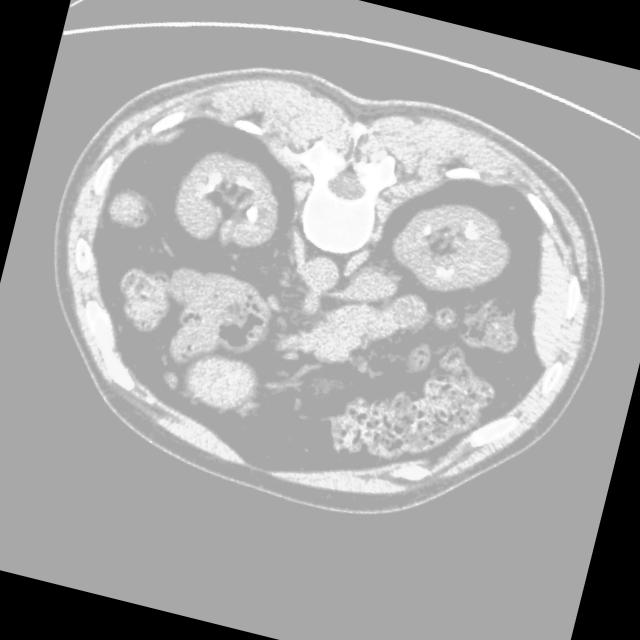STONE: (173, 161, 489, 338)
